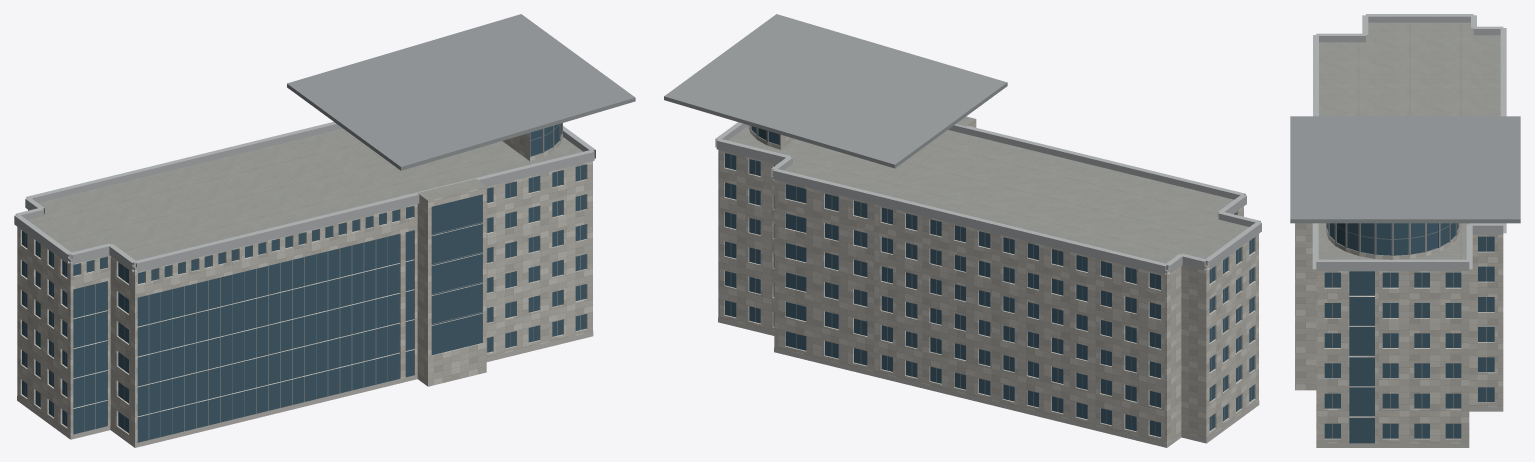
The picture shows the model from 3 angles, left to right: view 1: azimuth 30°, elevation 25°; view 2: azimuth 150°, elevation 25°; view 3: azimuth 270°, elevation 25°; orthographic projection. The views are drawn at different scales.
Visible parts, largest first — view 1: futureTech__glass, futureTech__wall, futureTech__roof, futureTech__canopyTop, futureTech__trim, futureTech__frame, futureTech__base, futureTech__canopy; view 2: futureTech__wall, futureTech__roof, futureTech__canopyTop, futureTech__glass, futureTech__trim, futureTech__base, futureTech__frame, futureTech__canopy; view 3: futureTech__wall, futureTech__canopyTop, futureTech__roof, futureTech__glass, futureTech__trim, futureTech__frame, futureTech__canopy, futureTech__base.
Part boxes in pixels (<box>): futureTech__glass: <box>22,123,586,442</box>; futureTech__wall: <box>17,133,592,447</box>; futureTech__roof: <box>27,128,582,268</box>; futureTech__canopyTop: <box>287,14,634,166</box>; futureTech__trim: <box>14,122,595,272</box>; futureTech__frame: <box>25,123,580,439</box>; futureTech__base: <box>17,331,593,447</box>; futureTech__canopy: <box>287,84,635,170</box>; futureTech__wall: <box>718,119,1258,447</box>; futureTech__roof: <box>728,116,1248,270</box>; futureTech__canopyTop: <box>664,14,1006,164</box>; futureTech__glass: <box>725,126,1254,437</box>; futureTech__trim: <box>715,122,1261,274</box>; futureTech__base: <box>718,318,1259,447</box>; futureTech__frame: <box>730,125,1251,435</box>; futureTech__canopy: <box>664,82,1007,168</box>; futureTech__wall: <box>1295,223,1503,443</box>; futureTech__canopyTop: <box>1290,116,1520,219</box>; futureTech__roof: <box>1318,22,1500,259</box>; futureTech__glass: <box>1324,223,1494,443</box>; futureTech__trim: <box>1312,14,1506,270</box>; futureTech__frame: <box>1326,223,1486,438</box>; futureTech__canopy: <box>1290,219,1520,223</box>; futureTech__base: <box>1316,407,1503,447</box>.
Size of the model in its own units: 72.37 by 31.4 by 27.
Materials: 8 (2 with a texture image).
